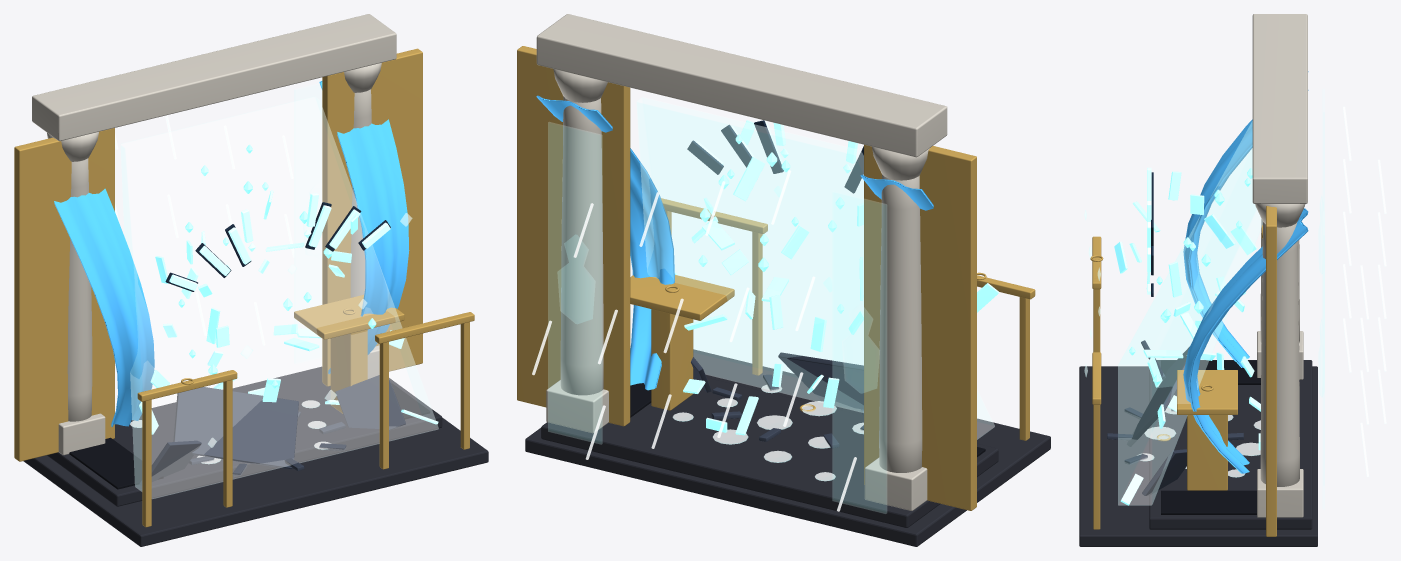
File: webtoon-aftermath-shattered-tempest-ruin-v26.glb
3 renders of one model, left to right at view 1: azimuth 30°, elevation 25°; view 2: azimuth 150°, elevation 25°; view 3: azimuth 270°, elevation 25°, orthographic. The views are drawn at different scales.
Visible parts, largest first — view 1: Volumetric_V26Stage3_Shattered_GodRaySlit, Articulated_V26Stage3_Shattered_DoorsAndIkRig, V26Stage3_Shattered_PortalColonnade, V26Stage3_Shattered_DatumDeck, WindDrape_V26Stage3_Shattered_CatenaryPair, Aftermath_V26Stage3_Shattered_DatumProps, Aftermath_V26Stage3_Shattered_PrismShards, ShadowDrift_V26Stage3_Shattered_UmbraMask, ZDepthSFX_V26Stage3_Shattered_GlyphCore, Weather_V26Stage3_Shattered_ExteriorOccluded, ZDepthSFX_V26Stage3_Shattered_ShadowPlate, Atmospheric_V26Stage3_Shattered_MidMotes; view 2: Articulated_V26Stage3_Shattered_DoorsAndIkRig, V26Stage3_Shattered_PortalColonnade, Volumetric_V26Stage3_Shattered_GodRaySlit, V26Stage3_Shattered_DatumDeck, HalfMirror_V26Stage3_Shattered_FresnelReflection, WindDrape_V26Stage3_Shattered_CatenaryPair, Aftermath_V26Stage3_Shattered_PrismShards, Aftermath_V26Stage3_Shattered_DatumProps, Weather_V26Stage3_Shattered_ExteriorOccluded, Weather_V26Stage3_Shattered_IndoorWetRipples, ZDepthSFX_V26Stage3_Shattered_ShadowPlate, Atmospheric_V26Stage3_Shattered_MidMotes (+1 smaller); view 3: V26Stage3_Shattered_DatumDeck, V26Stage3_Shattered_PortalColonnade, Volumetric_V26Stage3_Shattered_GodRaySlit, Articulated_V26Stage3_Shattered_DoorsAndIkRig, WindDrape_V26Stage3_Shattered_CatenaryPair, Aftermath_V26Stage3_Shattered_PrismShards, ShadowDrift_V26Stage3_Shattered_UmbraMask, Aftermath_V26Stage3_Shattered_DatumProps, Weather_V26Stage3_Shattered_ExteriorOccluded, HalfMirror_V26Stage3_Shattered_FresnelReflection, Weather_V26Stage3_Shattered_IndoorWetRipples, Atmospheric_V26Stage3_Shattered_MidMotes (+1 smaller).
Boxes of the visible parts, x1,y1,x2,y2 form: Volumetric_V26Stage3_Shattered_GodRaySlit: (121,97,438,498); Articulated_V26Stage3_Shattered_DoorsAndIkRig: (14,48,474,527); V26Stage3_Shattered_PortalColonnade: (32,14,396,455); V26Stage3_Shattered_DatumDeck: (23,366,488,546); WindDrape_V26Stage3_Shattered_CatenaryPair: (54,81,409,426); Aftermath_V26Stage3_Shattered_DatumProps: (139,375,405,485); Aftermath_V26Stage3_Shattered_PrismShards: (139,190,438,434); ShadowDrift_V26Stage3_Shattered_UmbraMask: (69,382,430,489); ZDepthSFX_V26Stage3_Shattered_GlyphCore: (169,193,390,290); Weather_V26Stage3_Shattered_ExteriorOccluded: (115,115,294,345); ZDepthSFX_V26Stage3_Shattered_ShadowPlate: (165,202,390,291); Atmospheric_V26Stage3_Shattered_MidMotes: (178,144,376,388); Articulated_V26Stage3_Shattered_DoorsAndIkRig: (517,46,1035,510); V26Stage3_Shattered_PortalColonnade: (536,14,947,510); Volumetric_V26Stage3_Shattered_GodRaySlit: (636,97,994,439); V26Stage3_Shattered_DatumDeck: (525,349,1050,546); HalfMirror_V26Stage3_Shattered_FresnelReflection: (548,122,886,513); WindDrape_V26Stage3_Shattered_CatenaryPair: (536,95,933,390); Aftermath_V26Stage3_Shattered_PrismShards: (674,120,998,435); Aftermath_V26Stage3_Shattered_DatumProps: (691,352,863,448); Weather_V26Stage3_Shattered_ExteriorOccluded: (532,170,856,511); Weather_V26Stage3_Shattered_IndoorWetRipples: (672,385,863,481); ZDepthSFX_V26Stage3_Shattered_ShadowPlate: (687,120,863,193); Atmospheric_V26Stage3_Shattered_MidMotes: (698,134,844,313); V26Stage3_Shattered_DatumDeck: (1079,360,1317,546); V26Stage3_Shattered_PortalColonnade: (1252,14,1307,517); Volumetric_V26Stage3_Shattered_GodRaySlit: (1118,121,1262,505); Articulated_V26Stage3_Shattered_DoorsAndIkRig: (1090,206,1276,536); WindDrape_V26Stage3_Shattered_CatenaryPair: (1183,71,1308,473); Aftermath_V26Stage3_Shattered_PrismShards: (1114,171,1260,505); ShadowDrift_V26Stage3_Shattered_UmbraMask: (1161,360,1260,514); Aftermath_V26Stage3_Shattered_DatumProps: (1107,340,1243,495); Weather_V26Stage3_Shattered_ExteriorOccluded: (1343,106,1386,476); HalfMirror_V26Stage3_Shattered_FresnelReflection: (1318,89,1324,508); Weather_V26Stage3_Shattered_IndoorWetRipples: (1137,407,1260,477); Atmospheric_V26Stage3_Shattered_MidMotes: (1129,168,1252,385).
Bounding box in the file's own units: 3.2 × 2.78 × 2.11.
